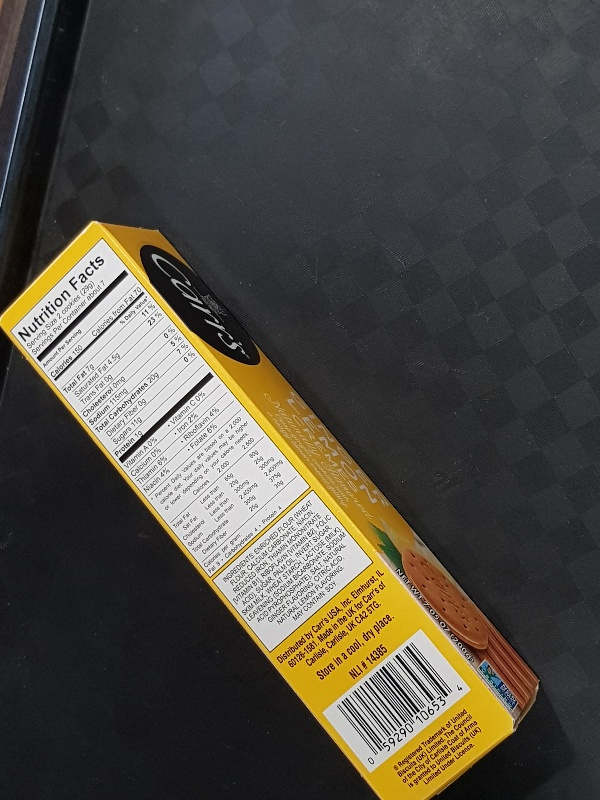Carr's Ginger Lemon Cremes: (1, 218, 542, 800)
